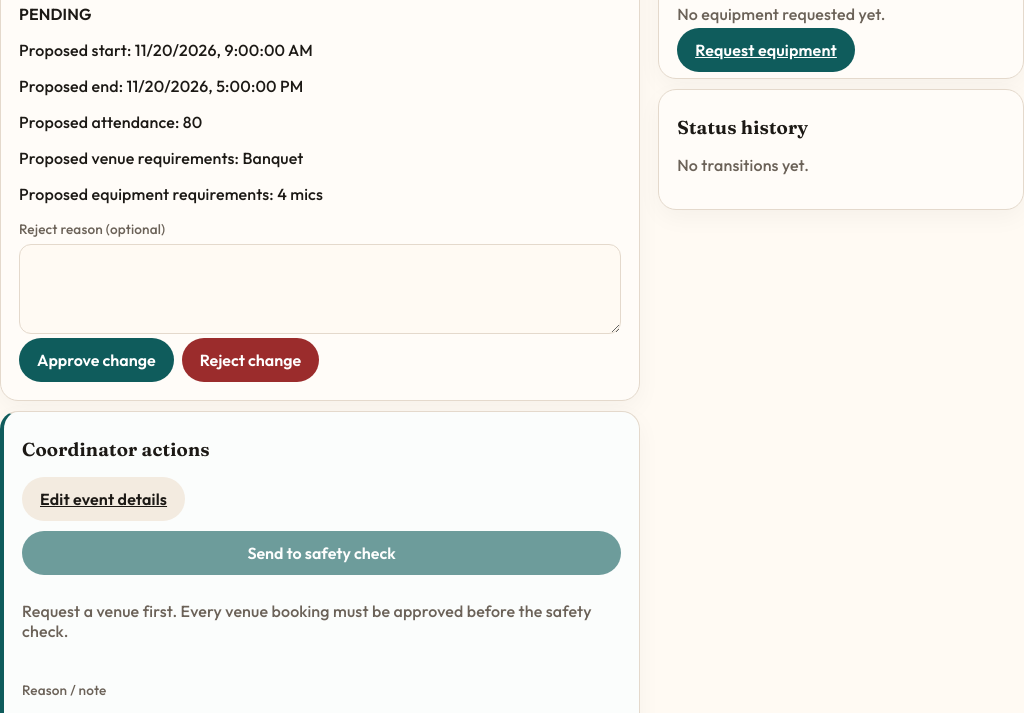
Test: SCRUM-35 coordinator decide on the event page › US36-F01 (AC2): approve error from the API is shown on the event page
(page scrolled)
Click the button "Approve change".
click(96, 360)  # box x1=19 y1=338 x2=174 y2=382
(page scrolled)
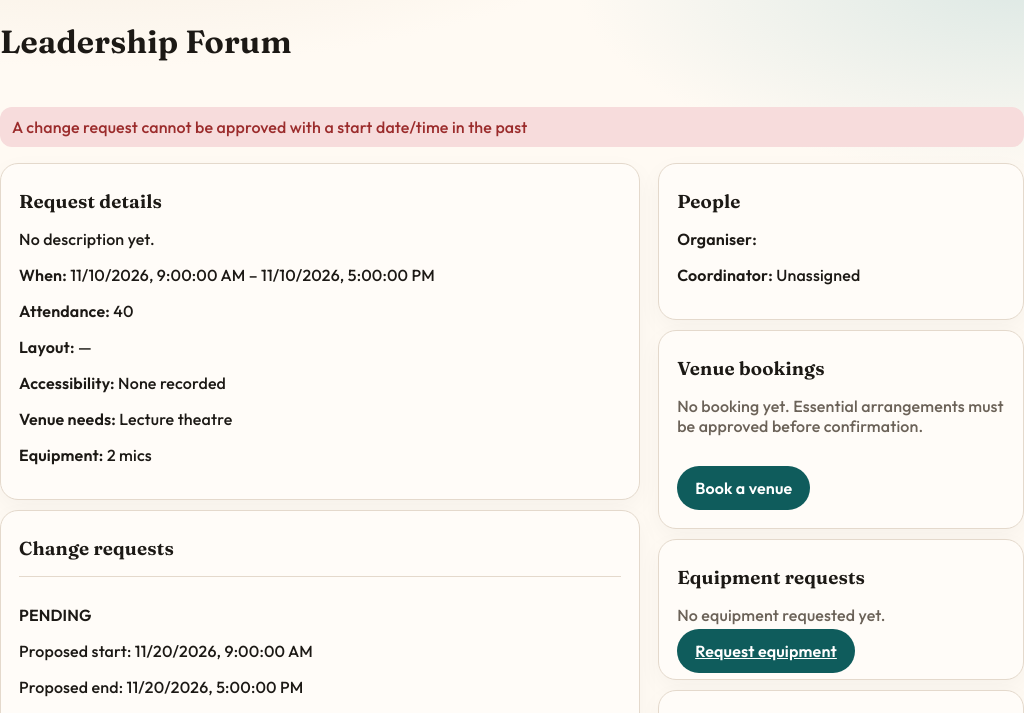
Expected: the text "A change request cannot be approved with a start date/time in the past" is shown, x1=0 y1=107 x2=1023 y2=147
